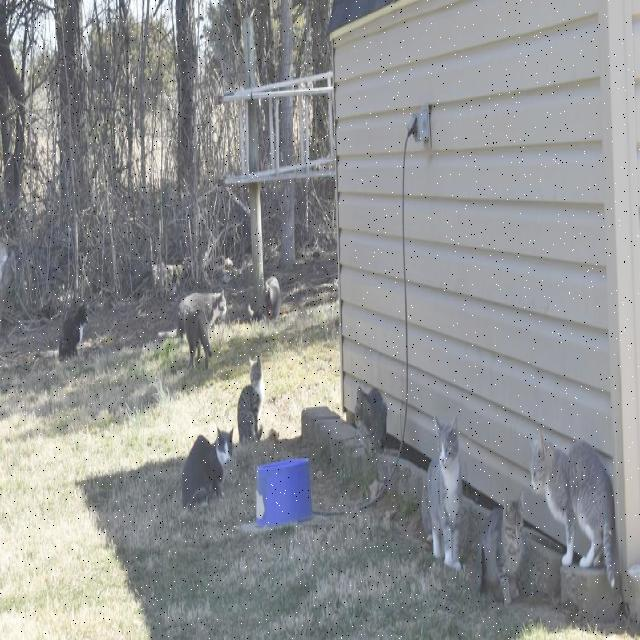cat: (531, 435, 614, 589), (421, 415, 461, 568), (476, 494, 522, 603), (171, 292, 226, 367), (182, 429, 232, 506), (238, 359, 265, 442), (355, 387, 388, 450), (59, 303, 88, 358), (264, 275, 281, 318), (264, 278, 281, 316), (248, 307, 262, 318)
